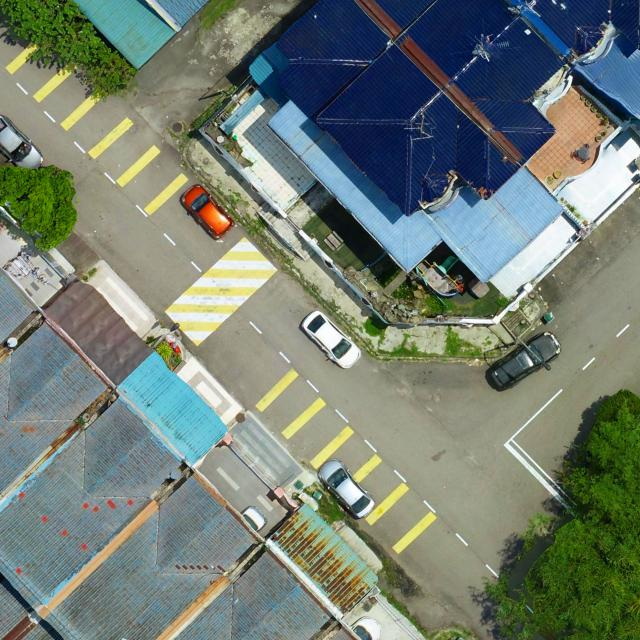Tree: (483, 515, 640, 640), (550, 387, 640, 554), (0, 165, 77, 252), (13, 0, 90, 50), (85, 41, 137, 101), (57, 22, 102, 64), (0, 0, 52, 26)
